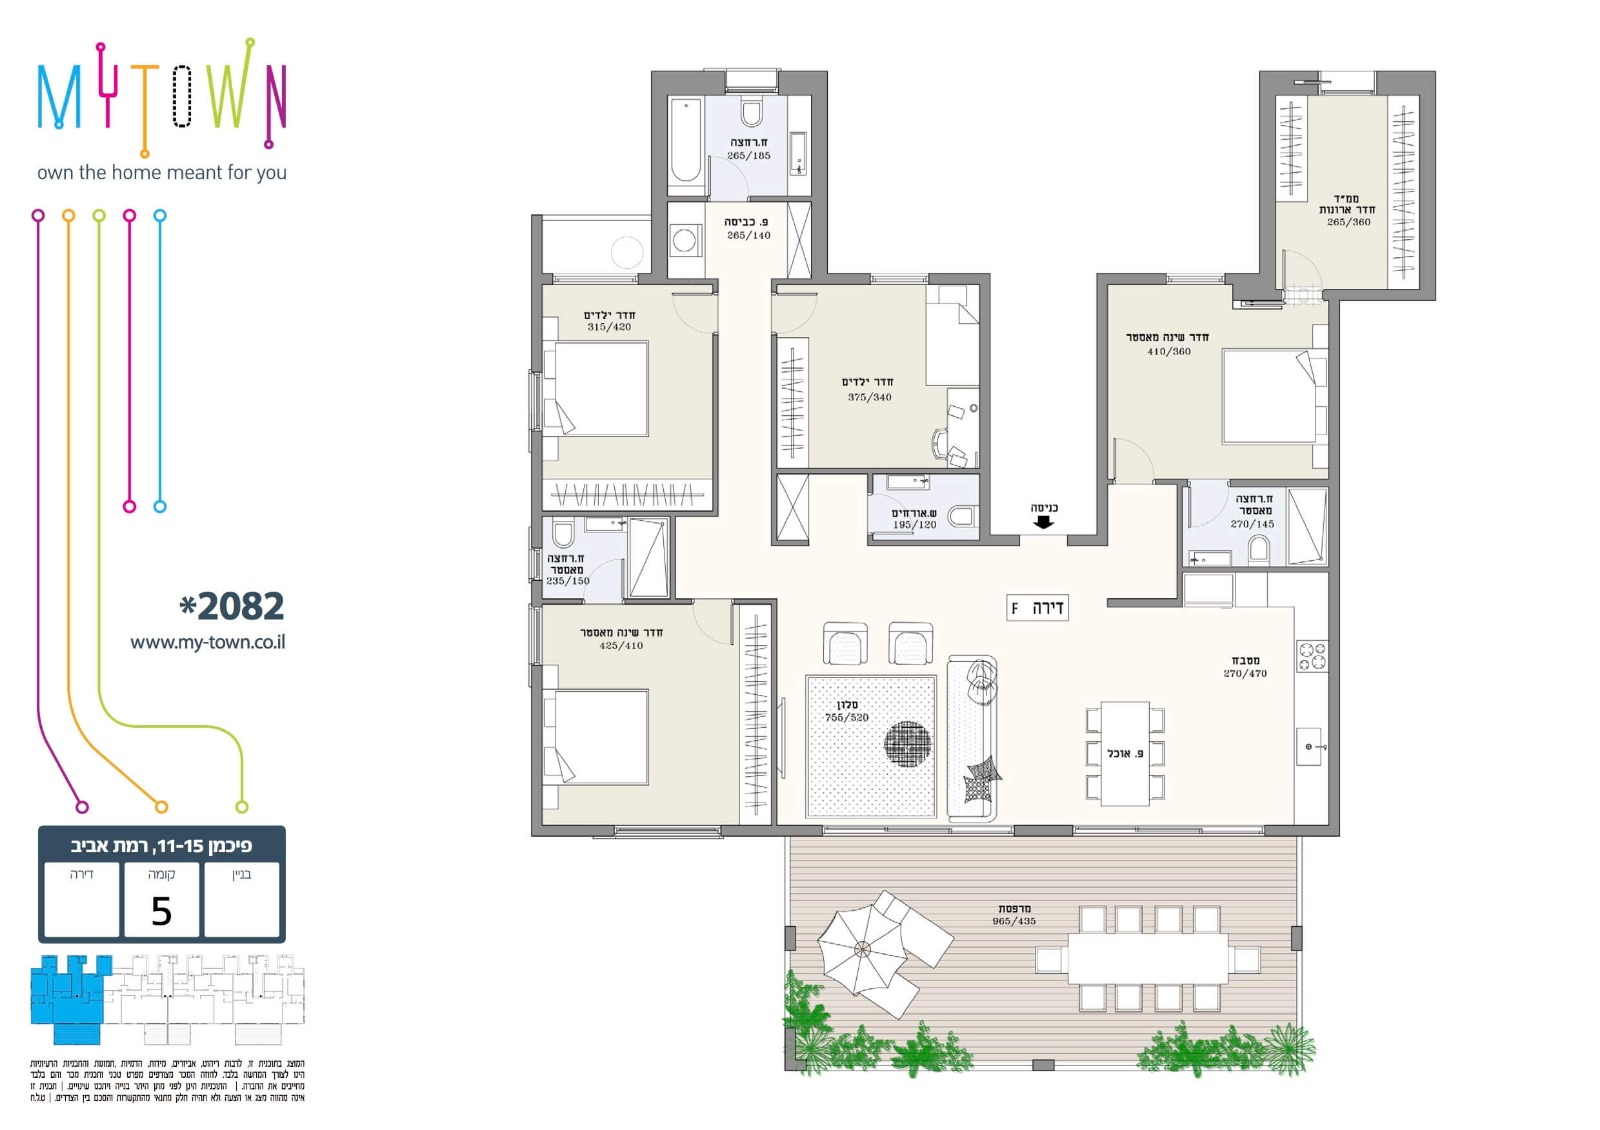wall: (1327, 301, 1340, 836), (1420, 70, 1436, 300), (810, 71, 828, 284), (1259, 71, 1276, 274), (651, 70, 667, 282), (1096, 273, 1107, 544), (980, 273, 990, 544), (530, 664, 541, 835), (1329, 290, 1419, 300), (1264, 823, 1327, 836)
window: (1072, 823, 1264, 836), (823, 824, 1015, 836), (614, 824, 722, 839), (552, 271, 640, 285), (530, 371, 545, 430), (870, 271, 931, 285), (1165, 271, 1226, 285), (529, 607, 543, 664)
